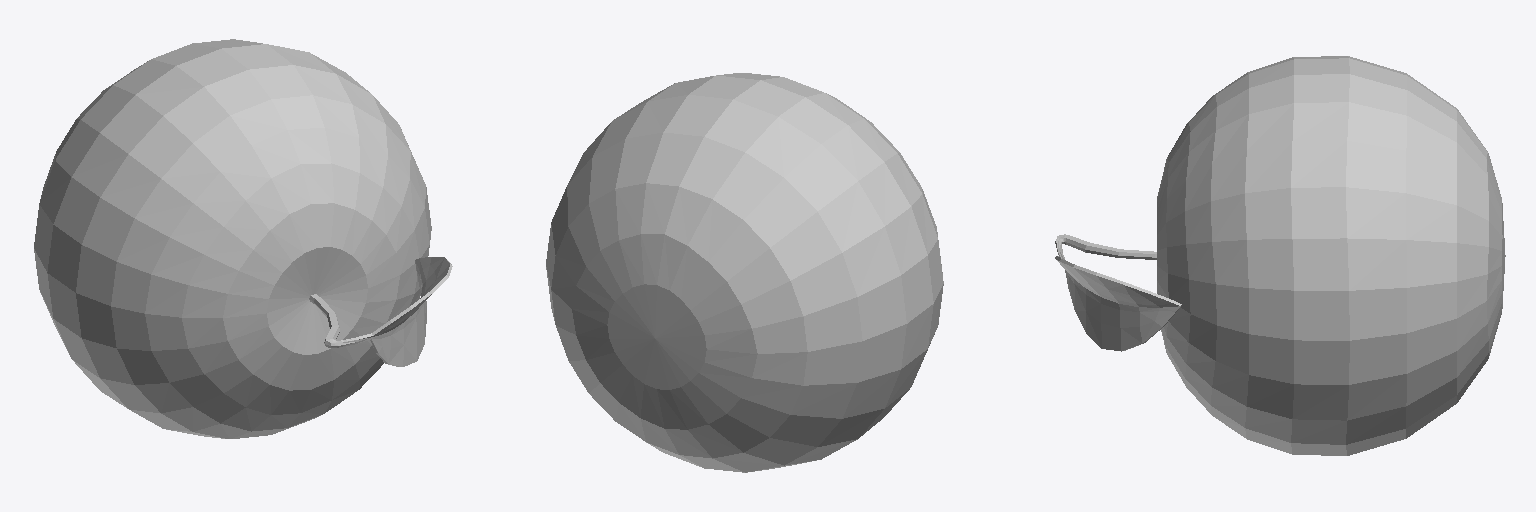
File: orange.obj
The picture shows the model from 3 angles: view 1: azimuth 30°, elevation 25°; view 2: azimuth 150°, elevation 25°; view 3: azimuth 270°, elevation 25°; orthographic projection.
Visible parts, largest first — view 1: Orange; view 2: Orange; view 3: Orange.
Part boxes in pixels (bbox=[...]): Orange: bbox=[34, 39, 452, 438]; Orange: bbox=[546, 73, 943, 472]; Orange: bbox=[1055, 56, 1505, 455].
Bounding box in the file's own units: 7.92 × 7.92 × 8.9.